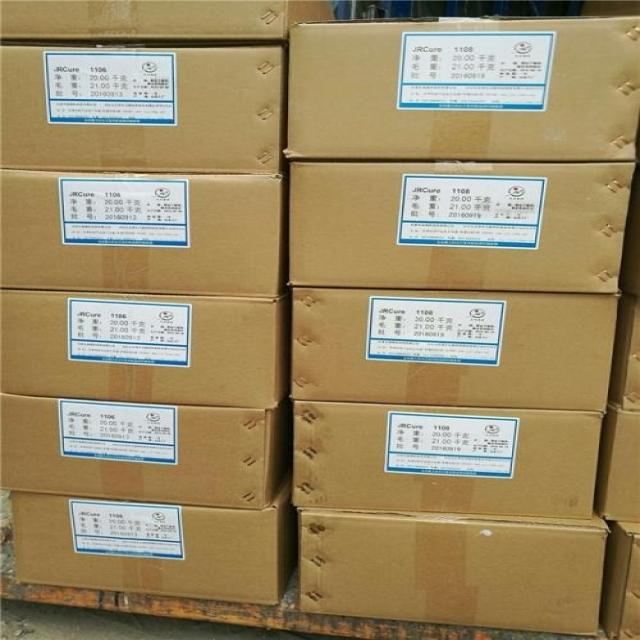box: (282, 16, 639, 161), (287, 162, 635, 293), (288, 287, 622, 412), (297, 507, 610, 637), (293, 401, 603, 520), (0, 45, 285, 174), (1, 169, 286, 298), (10, 480, 296, 605), (0, 289, 287, 410), (1, 392, 283, 510), (0, 0, 289, 39), (596, 404, 639, 522), (600, 520, 639, 639), (609, 292, 639, 410)
